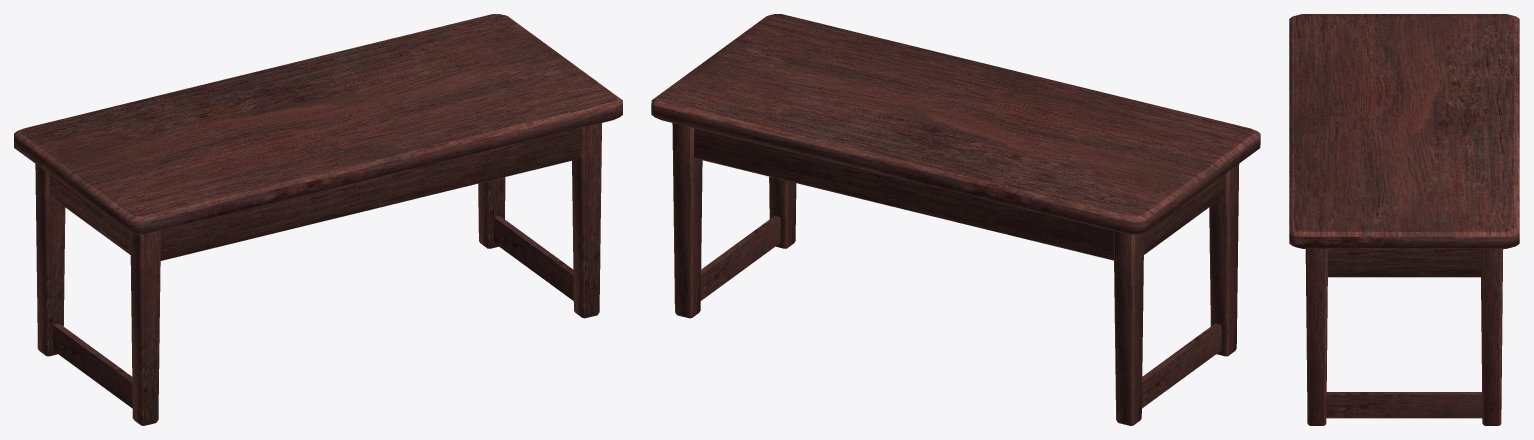
The model's file is table05.obj.
3 renders of one model, left to right at view 1: azimuth 30°, elevation 25°; view 2: azimuth 150°, elevation 25°; view 3: azimuth 270°, elevation 25°, orthographic. The views are drawn at different scales.
Parts seen in each view (by area): view 1: mesh; view 2: mesh; view 3: mesh.
Boxes of the visible parts, x1,y1,x2,y2 form: mesh: [14, 14, 622, 425]; mesh: [651, 14, 1260, 425]; mesh: [1289, 14, 1519, 425].
Bounding box in the file's own units: 83 × 34.93 × 36.39.
1 material, 1 textured.
